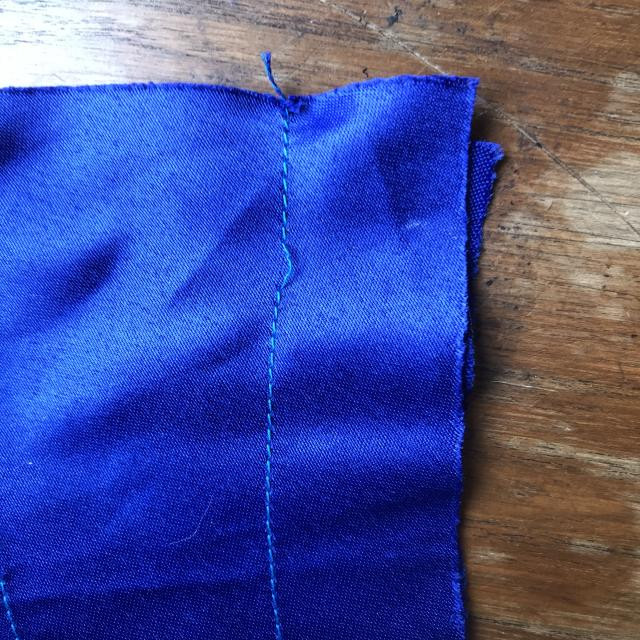good: (248, 380, 301, 529)
skip: (262, 222, 308, 308)
